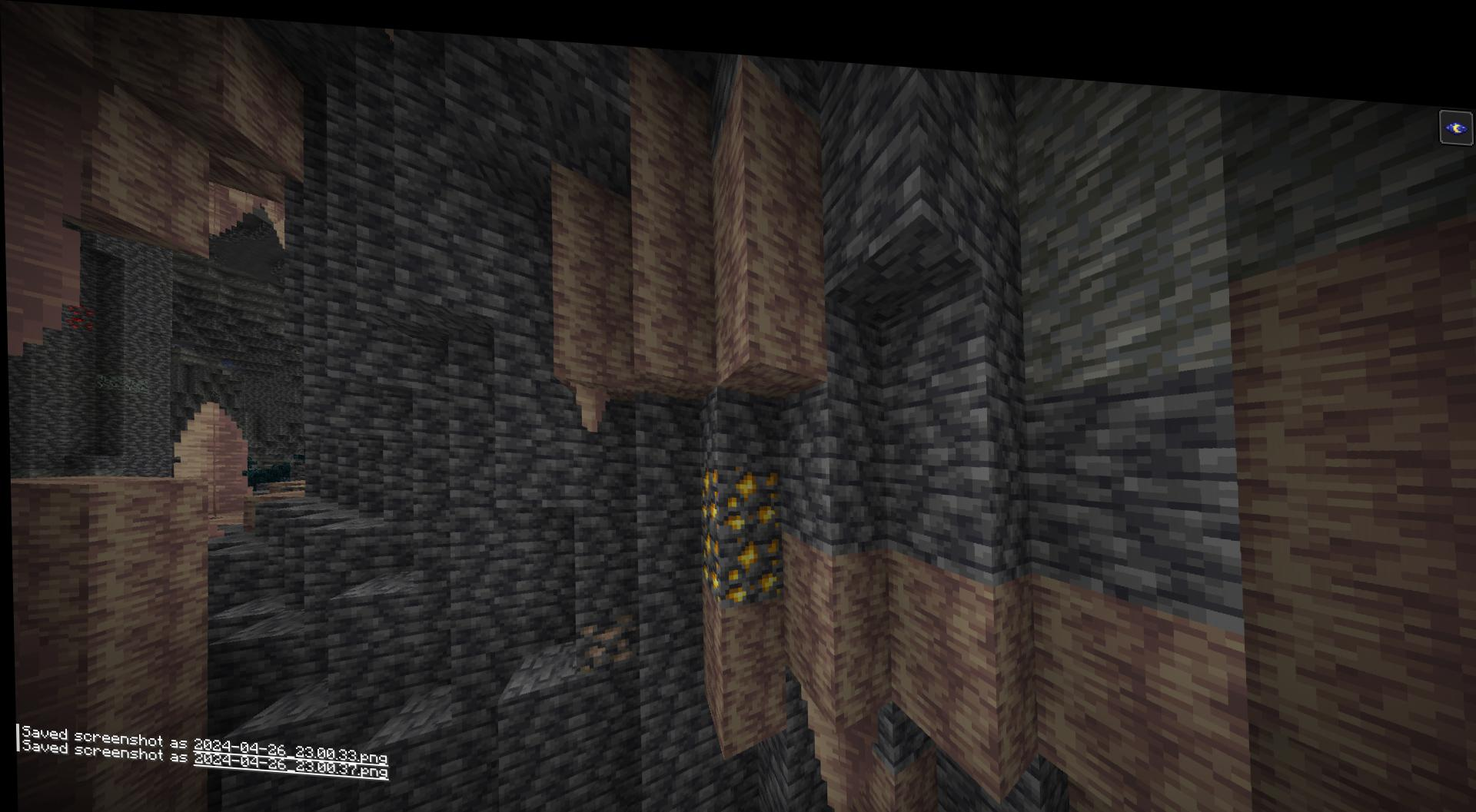gold ore: (721, 523, 784, 595), (721, 455, 778, 520), (694, 455, 722, 513), (699, 521, 722, 579)
iron ore: (568, 601, 637, 664)
redstone ore: (63, 295, 95, 334)
